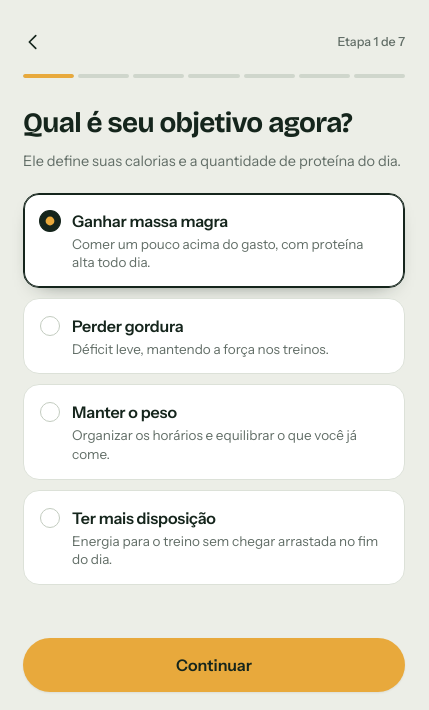
Test: Etapa Objetivo (S02) › avisa quando a meta de peso foi ajustada e volta ao resumo (RN11)
Click the radio button labelled "Perder gordura Déficit leve, mantendo a força nos treinos." at (128, 326), box [23, 298, 405, 374]
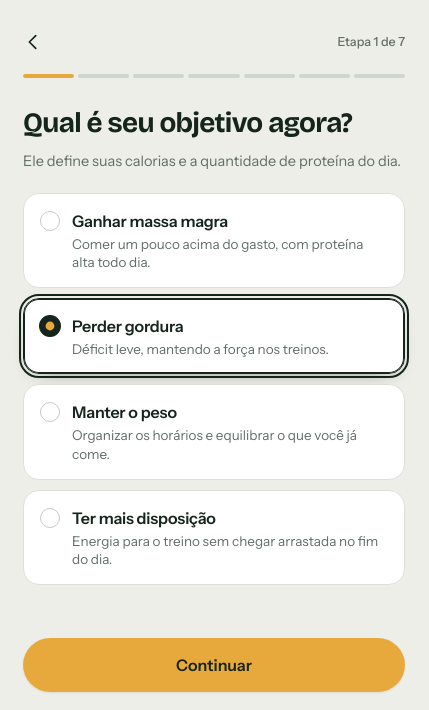
Click the button "Continuar" at (214, 665), box [23, 638, 405, 692]
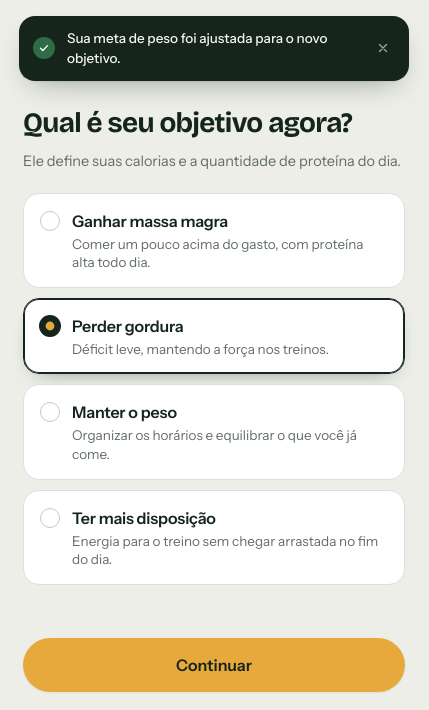
Result: the text "Sua meta de peso foi ajustada para o novo objetivo." is shown at [67, 28, 355, 68]
